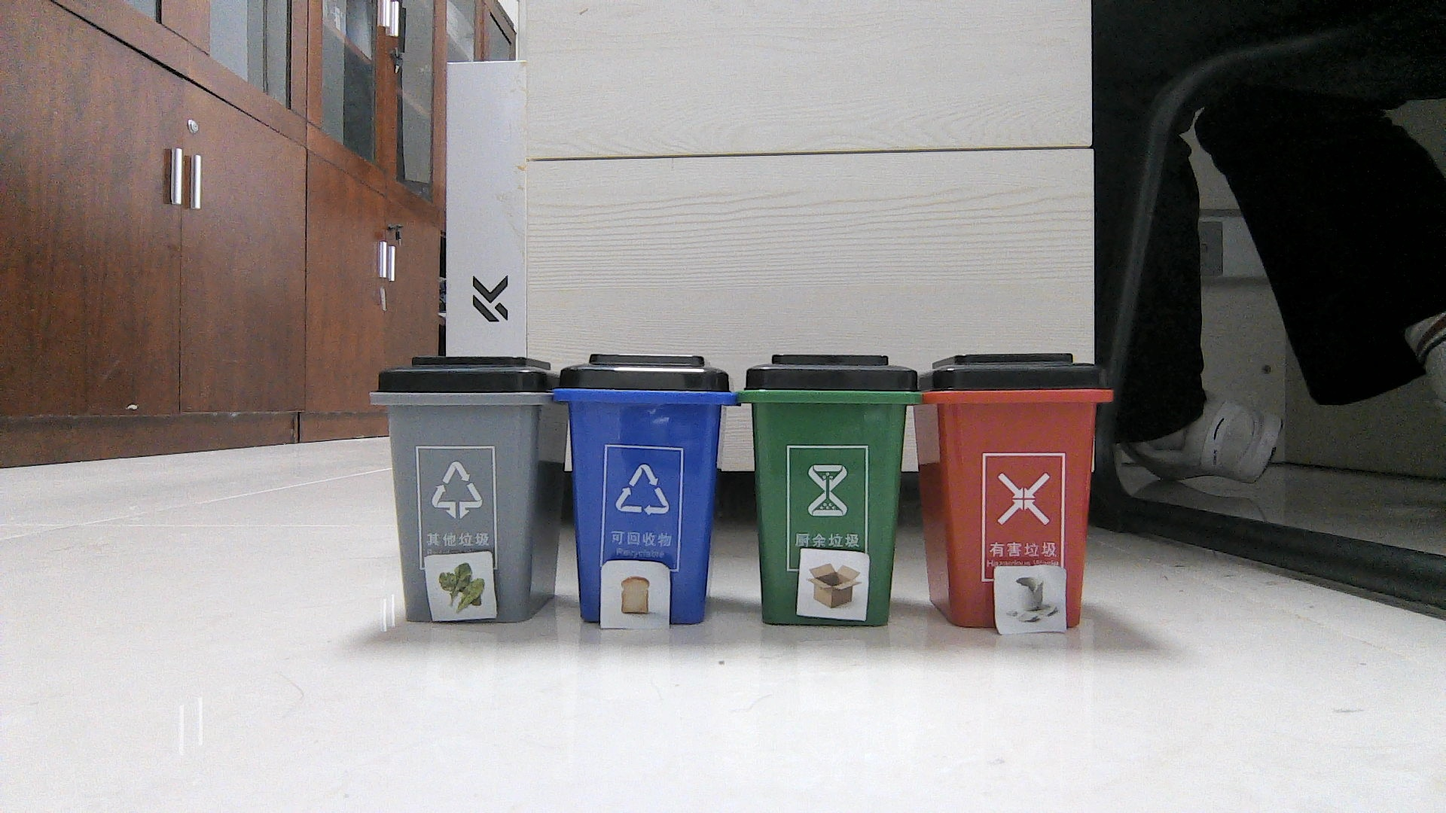food_trash: (431, 556, 490, 615), (608, 565, 662, 623)
other_trash: (997, 569, 1063, 631)
recyclable_trash: (802, 552, 866, 616)
